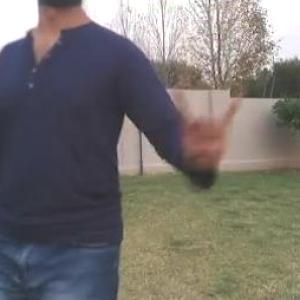takeoff-hand: (175, 76, 249, 180)
